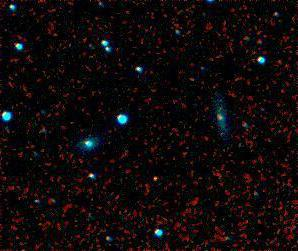star: (142, 162, 172, 192)
